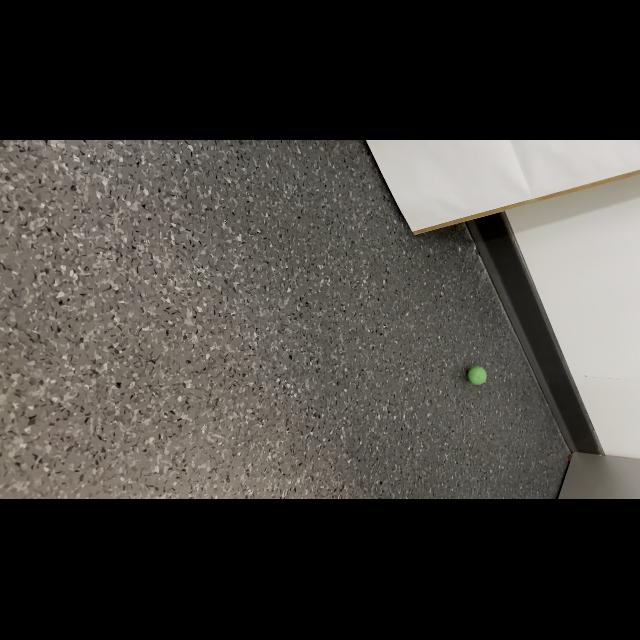objects: (466, 365, 489, 387)
